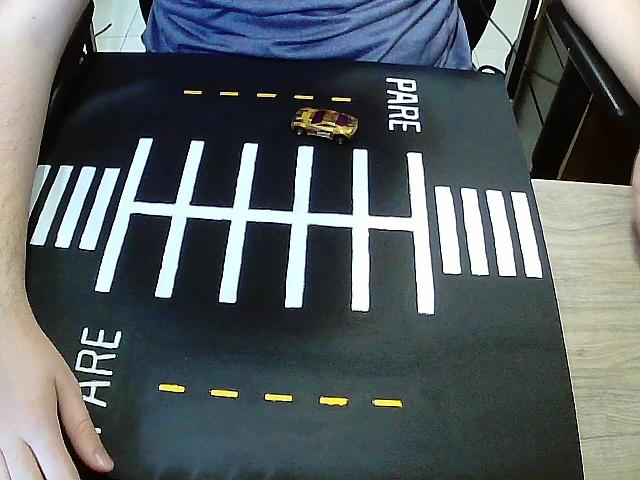Carro: (289, 108, 360, 145)
